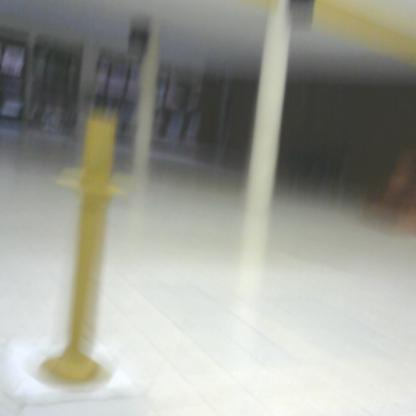pole: (29, 109, 138, 395)
